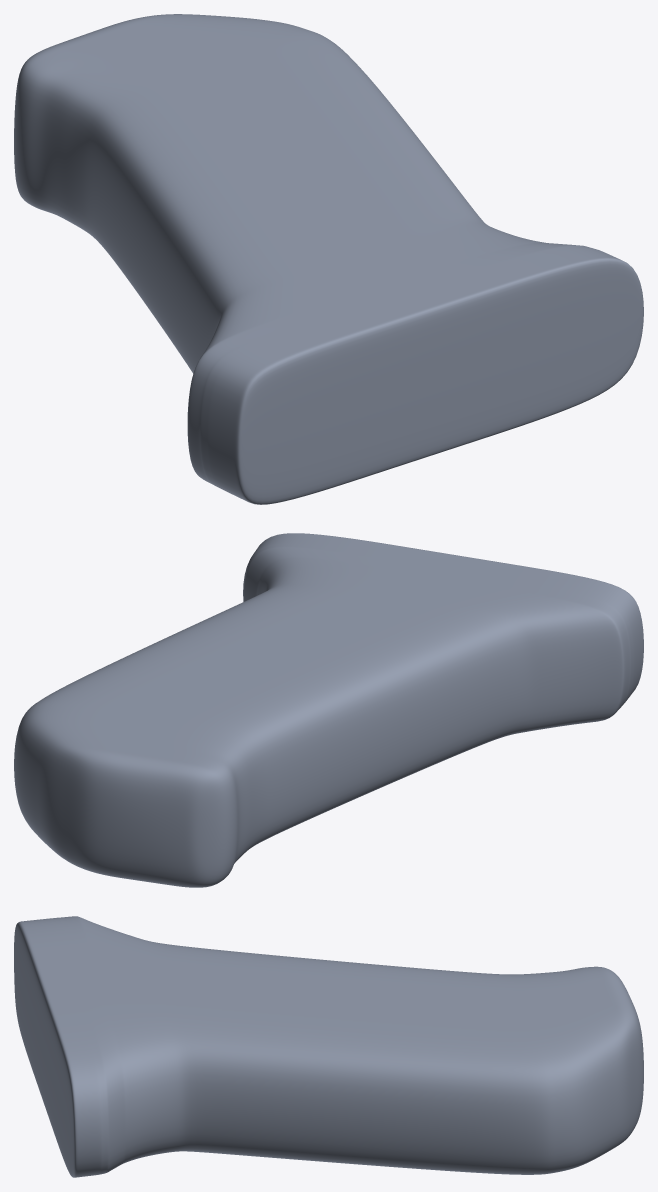
3 views of the same model, one above another, from view 1: azimuth 30°, elevation 25°; view 2: azimuth 150°, elevation 25°; view 3: azimuth 270°, elevation 25° (orthographic). The views are drawn at different scales.
Parts seen in each view (by area): view 1: Cube.043; view 2: Cube.043; view 3: Cube.043.
Boxes of the visible parts, box(x1,y1,x2,y2) form: Cube.043: box(14, 14, 643, 504); Cube.043: box(14, 533, 643, 887); Cube.043: box(14, 916, 643, 1177).
Bounding box in the file's own units: 0.0512 × 0.0167 × 0.0768.
